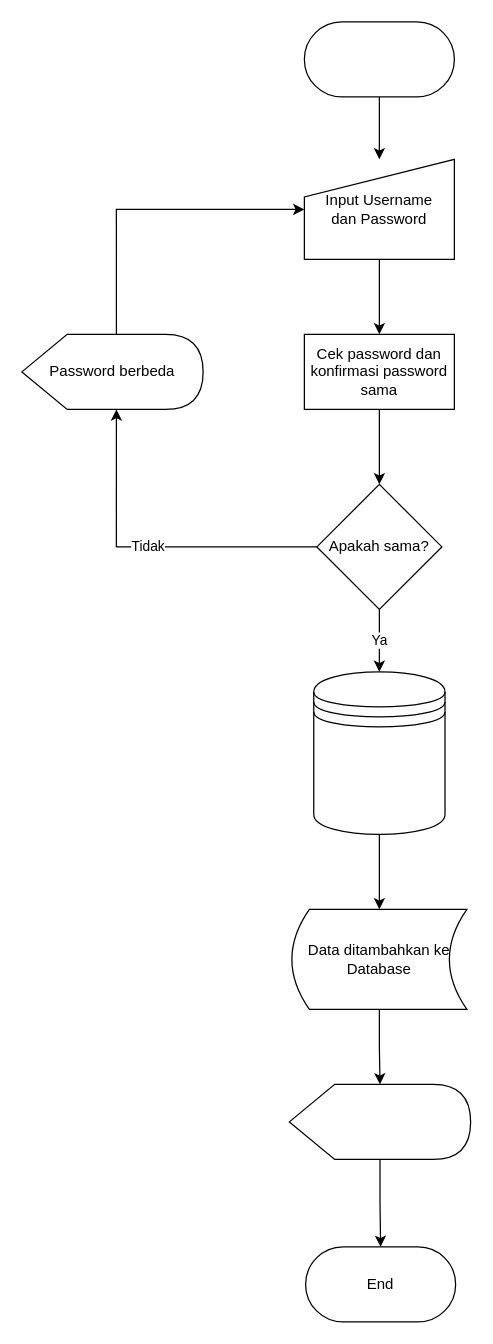
The diagram is 493 pixels wide and 1344 high, and some of its shapes have lost their labels. Each missing label, with the centre of its shape:
"Akun sudah terdaftar" goes at (x=379, y=1121).
"Data inputan User ditambahkan ke Database" goes at (x=378, y=752).
"Start" goes at (x=378, y=59).
